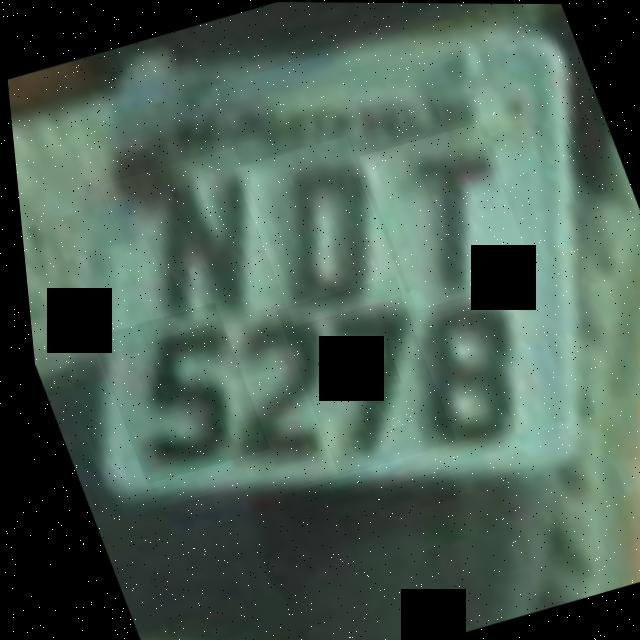2: (182, 293, 366, 480)
5: (81, 300, 264, 484)
7: (267, 274, 452, 476)
8: (363, 263, 563, 477)
D: (228, 134, 403, 326)
N: (92, 145, 290, 340)
T: (354, 122, 534, 311)
